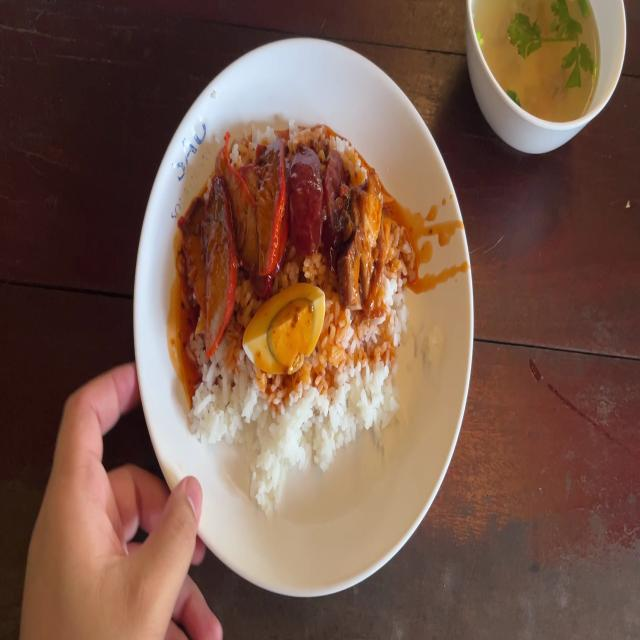01boiled_egg: (250, 287, 324, 366)
01chainese_sausage: (296, 135, 346, 260)
01crispy_pork: (348, 171, 382, 313)
01red_pork: (193, 139, 282, 301)
01red_pork_and_crispy_pork: (187, 122, 413, 482)
01rice: (249, 370, 401, 464), (197, 343, 250, 439)
